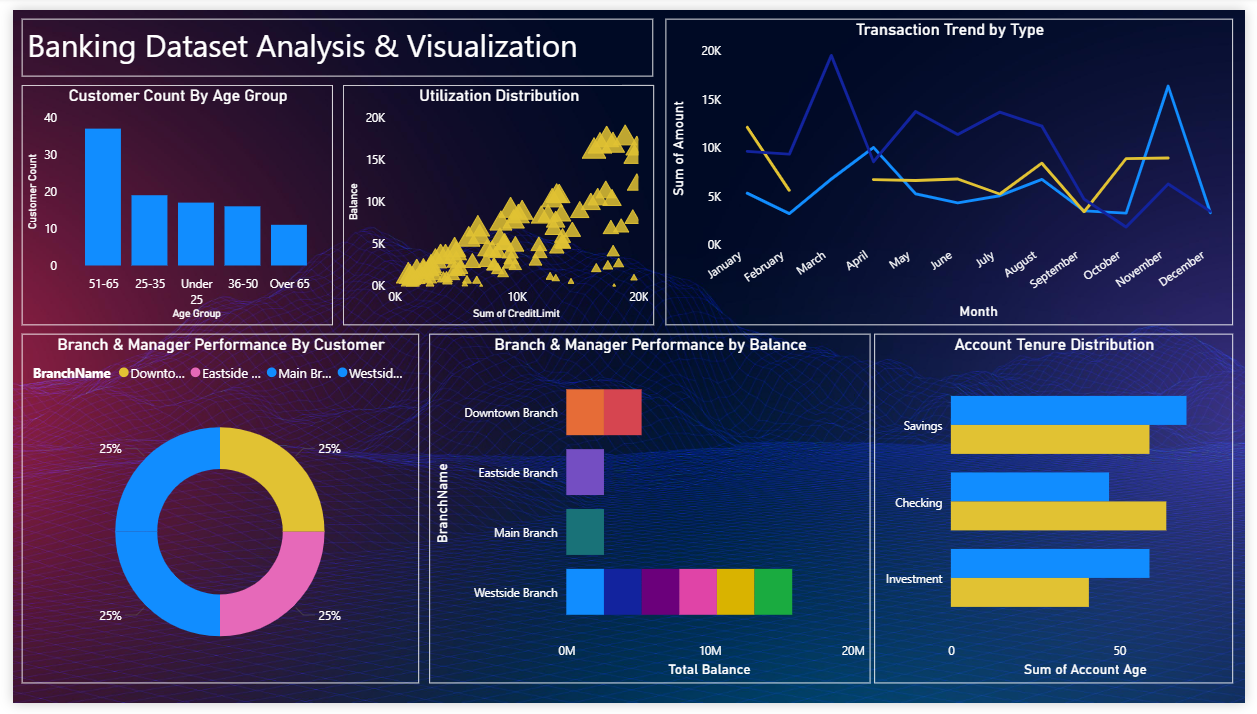

The page's visual inventory and layout, read from the dashboard file:
{"tool":"powerbi","page":{"name":"Visualization 2","canvas":[1280,720],"ordinal":1},"visuals":[{"type":"textbox","box":[9.7,9.7,656.3,60.3],"z":0},{"type":"columnChart","title":"Customer Count By Age Group","fields":{"Category":["Customers.Age Group"],"Y":["Customers.Customer Count"]},"box":[9.7,78.4,323.3,249.7],"z":1000},{"type":"scatterChart","title":"Utilization Distribution","fields":{"X":["CreditCards.CreditLimit"],"Y":["CreditCards.Balance"],"Size":["CreditCards.Credit Utilization"]},"box":[342.6,78.4,323.3,249.7],"z":2000},{"type":"lineChart","title":"Transaction Trend by Type","fields":{"Category":["Date.Date.Variation.Date Hierarchy.Month"],"Series":["Transactions.Type"],"Y":["Transactions.Amount"]},"box":[678,9.7,589.9,318.5],"z":3000},{"type":"donutChart","title":"Branch & Manager Performance  By Customer","fields":{"Category":["Branches.BranchName","Branches.ManagerName"],"Y":["Customers.Customer Count"]},"box":[9.7,336.6,412.6,363.1],"z":4000},{"type":"barChart","title":"Branch & Manager Performance by Balance","fields":{"Category":["Branches.BranchName"],"Series":["Branches.ManagerName"],"Y":["Accounts.Total Balance"]},"box":[431.9,336.6,458.4,363.1],"z":5000},{"type":"clusteredBarChart","title":"Account Tenure Distribution","fields":{"Category":["Accounts.AccountType"],"Y":["Accounts.Account Age"],"Series":["Accounts.Status"]},"box":[895.2,336.6,372.8,363.1],"z":6000}]}

Visuals, with their boxes in screenshot pixels (x1, y1, x2, y2), scaled from the page's 1280x720 canvas onto the 1257x714 screenshot:
textbox: (x1=10, y1=10, x2=654, y2=69)
"Customer Count By Age Group" columnChart: (x1=10, y1=78, x2=327, y2=325)
"Utilization Distribution" scatterChart: (x1=336, y1=78, x2=654, y2=325)
"Transaction Trend by Type" lineChart: (x1=666, y1=10, x2=1245, y2=325)
"Branch & Manager Performance  By Customer" donutChart: (x1=10, y1=334, x2=415, y2=694)
"Branch & Manager Performance by Balance" barChart: (x1=424, y1=334, x2=874, y2=694)
"Account Tenure Distribution" clusteredBarChart: (x1=879, y1=334, x2=1245, y2=694)
